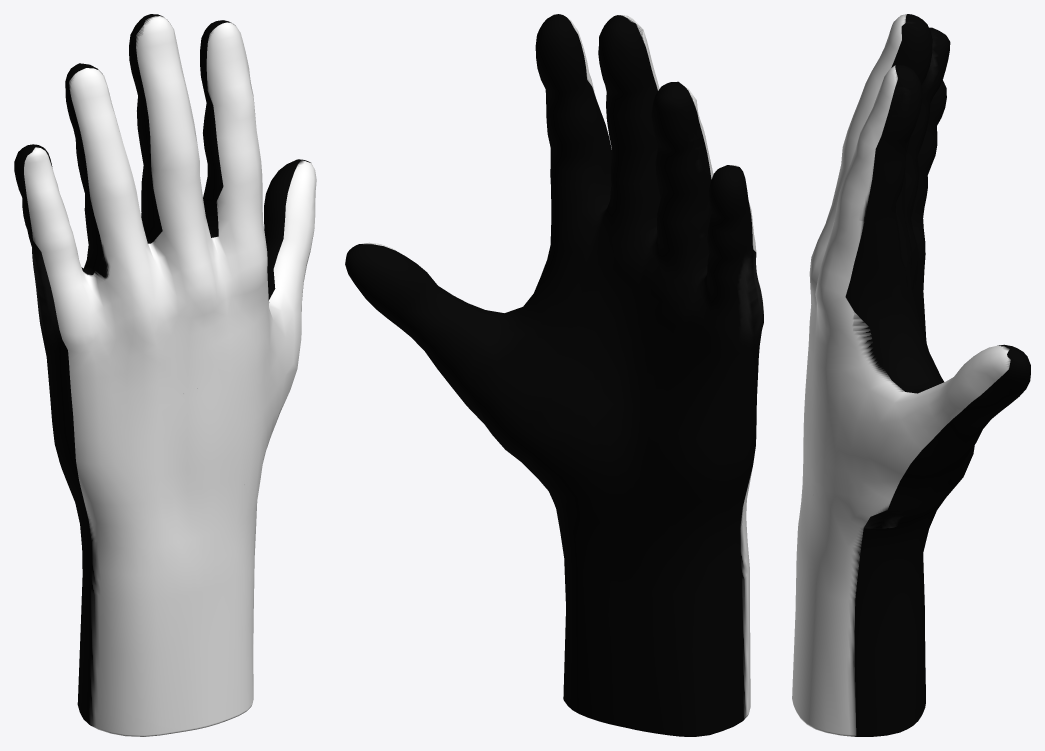
Rendered from hand-updated-3.fbx.
The picture shows the model from 3 angles, left to right: view 1: azimuth 30°, elevation 25°; view 2: azimuth 150°, elevation 25°; view 3: azimuth 270°, elevation 25°; orthographic projection. The views are drawn at different scales.
Parts seen in each view (by area): view 1: GenericHand.002; view 2: GenericHand.002; view 3: GenericHand.002.
Boxes of the visible parts, x1,y1,x2,y2 form: GenericHand.002: [14, 14, 316, 736]; GenericHand.002: [345, 14, 763, 736]; GenericHand.002: [792, 14, 1030, 736].
Size of the model in its own units: 12.57 by 23.87 by 7.5.
Materials: 1 (1 with a texture image).
